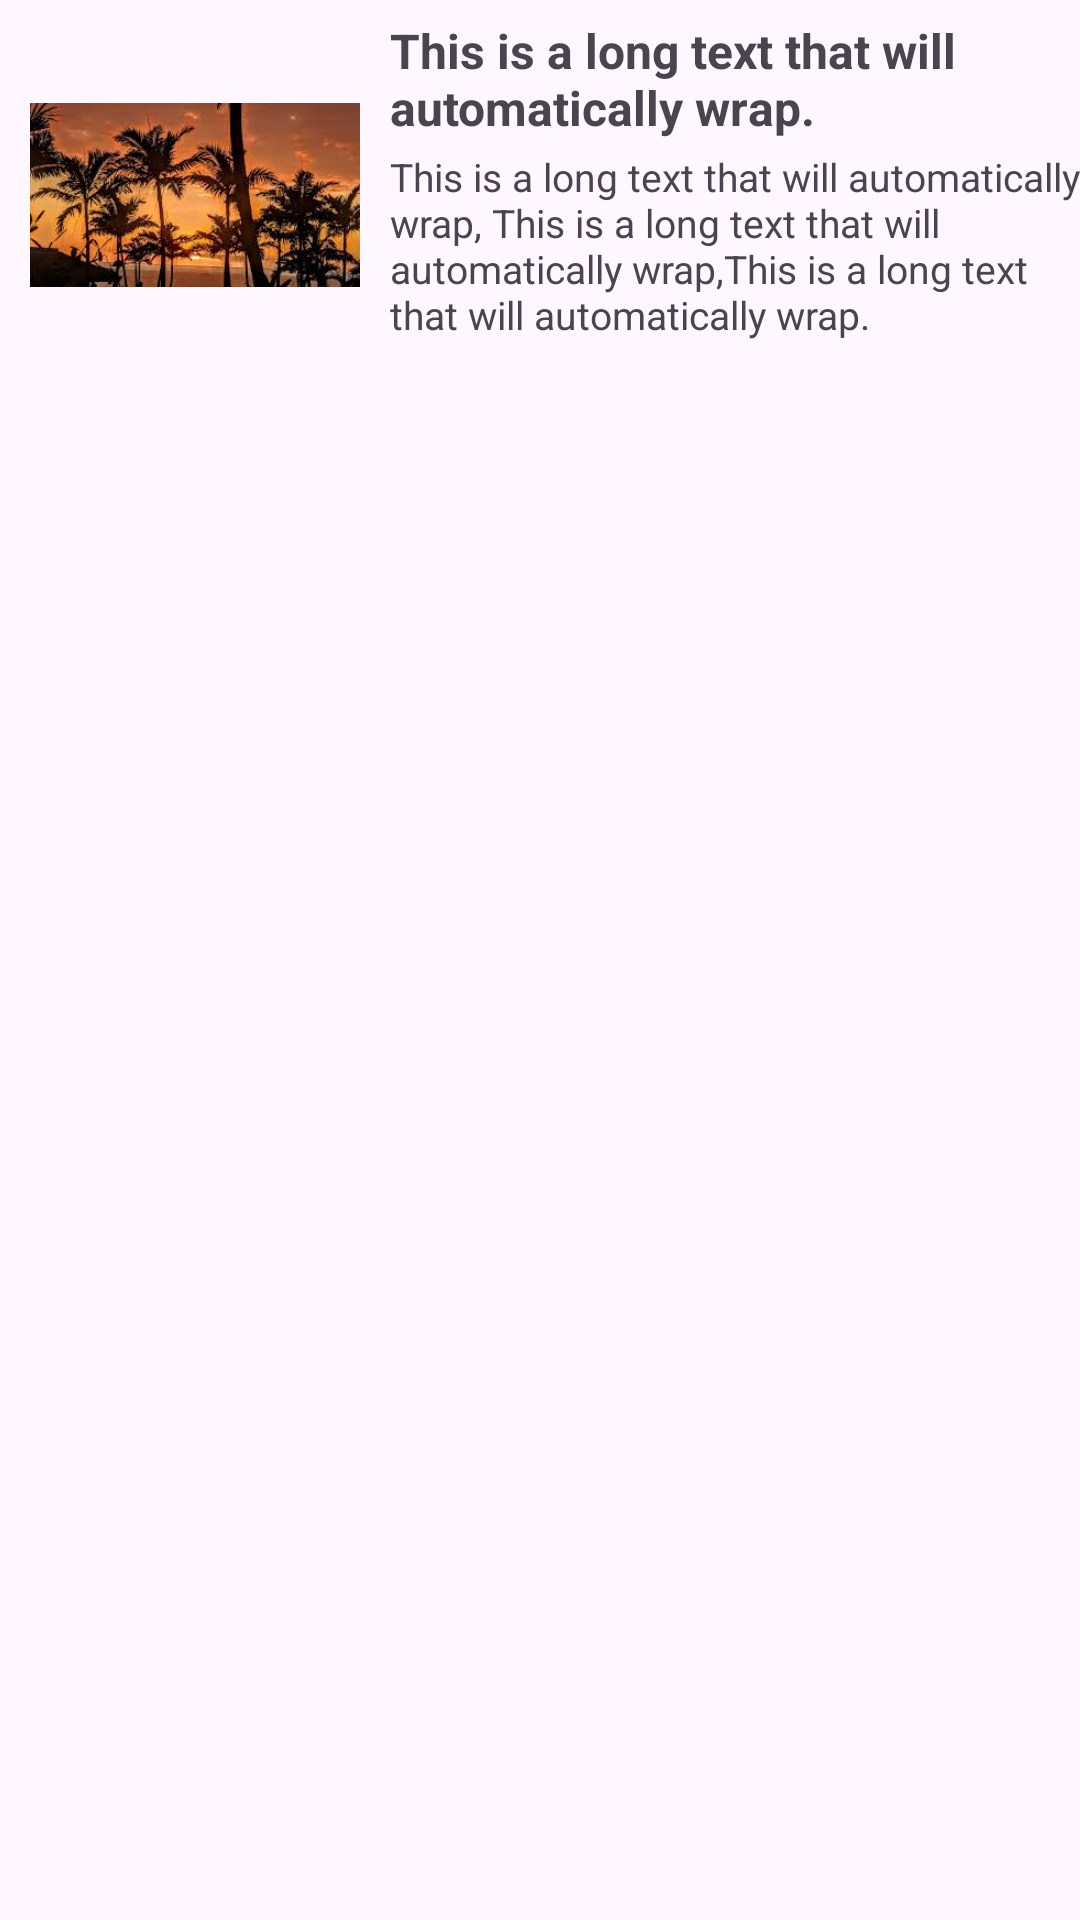

Where icons sit on this 1080 × 1920 app screen, as box(x1, y1, x2, y2):
thumbnail: box(30, 103, 360, 287)
